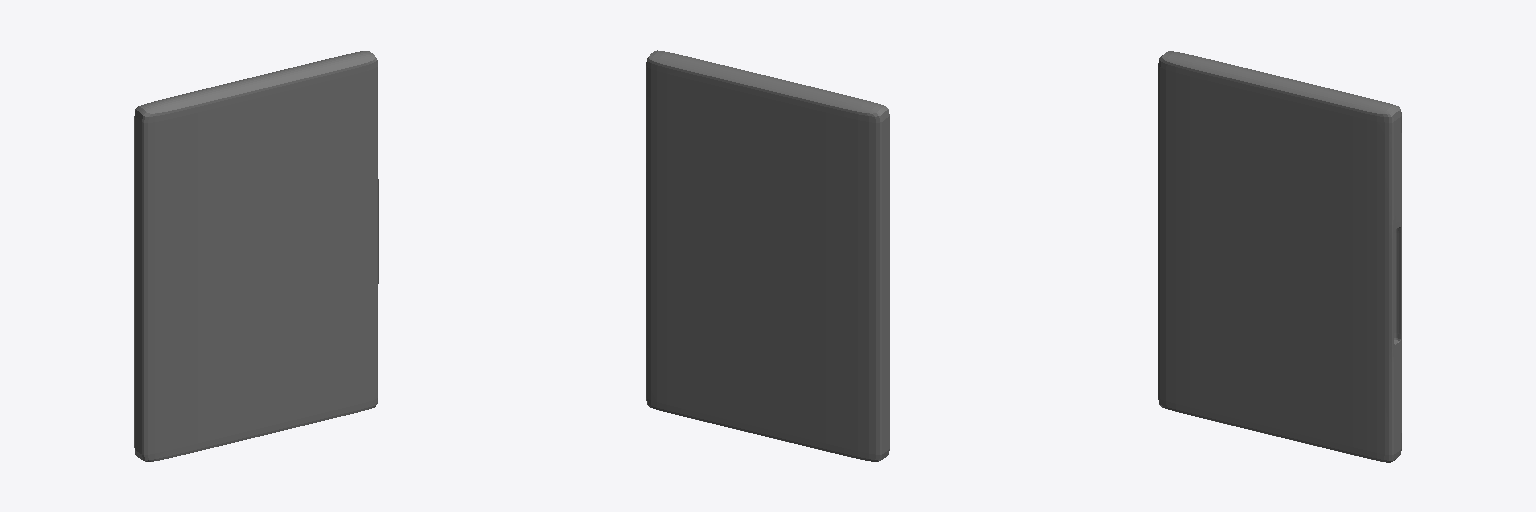
Rendered from PS2WII.obj.
3 views of the same model, side by side, from view 1: azimuth 30°, elevation 25°; view 2: azimuth 150°, elevation 25°; view 3: azimuth 330°, elevation 25° (orthographic).
Visible parts, largest first — view 1: pCube1; view 2: pCube1; view 3: pCube1.
Part boxes in pixels (left/top/right/bottom): pCube1: left=134, top=51, right=378, bottom=461; pCube1: left=646, top=50, right=889, bottom=461; pCube1: left=1158, top=51, right=1401, bottom=462.
Size of the model in its own units: 13.5 by 19.43 by 1.4.